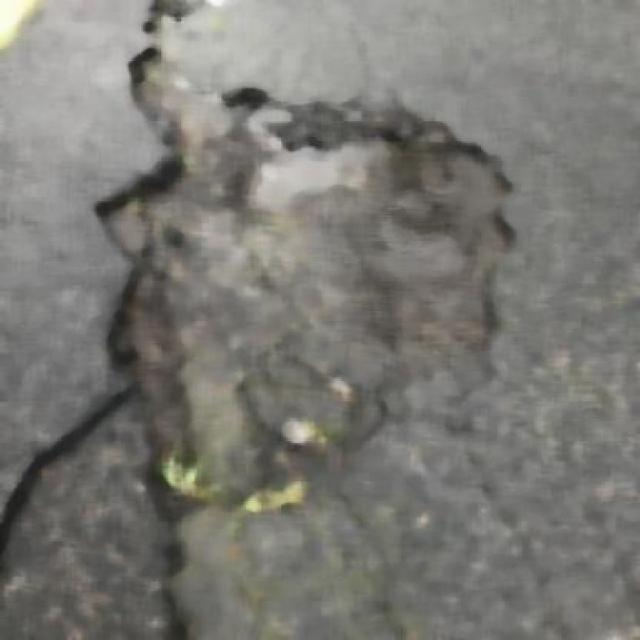Pothole: (129, 7, 476, 458)
